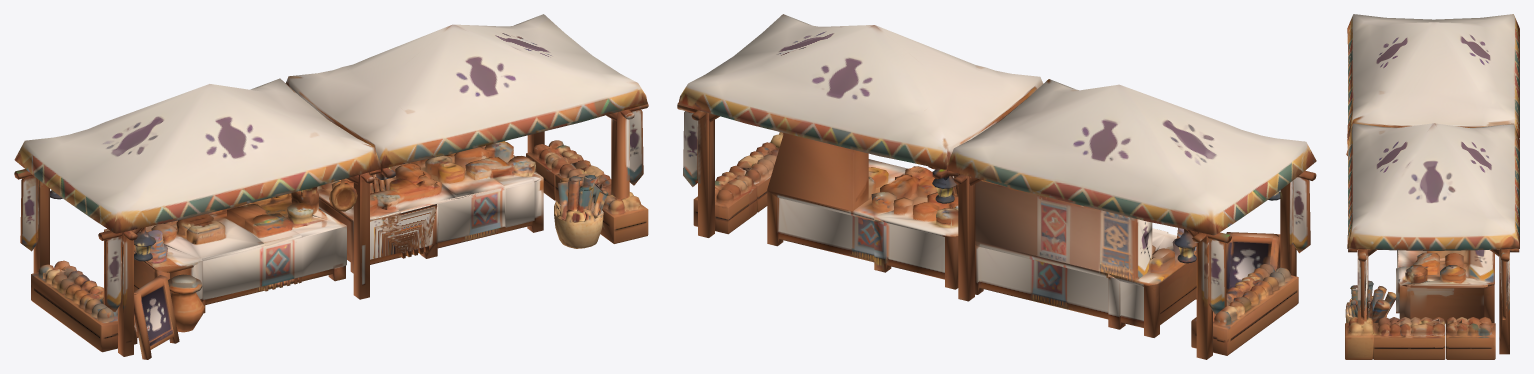
The model's file is puesto 3 para usar.fbx.
3 views of the same model, side by side, from view 1: azimuth 30°, elevation 25°; view 2: azimuth 150°, elevation 25°; view 3: azimuth 270°, elevation 25° (orthographic). The views are drawn at different scales.
Visible parts, largest first — view 1: mesh_rep_0_ori_repair_quad; view 2: mesh_rep_0_ori_repair_quad; view 3: mesh_rep_0_ori_repair_quad.
Part boxes in pixels (x1,y1,x2,y2): mesh_rep_0_ori_repair_quad: [14, 14, 648, 359]; mesh_rep_0_ori_repair_quad: [677, 14, 1316, 359]; mesh_rep_0_ori_repair_quad: [1345, 14, 1519, 359].
Bounding box in the file's own units: 803 × 298 × 262.
Materials: 1 (1 with a texture image).
